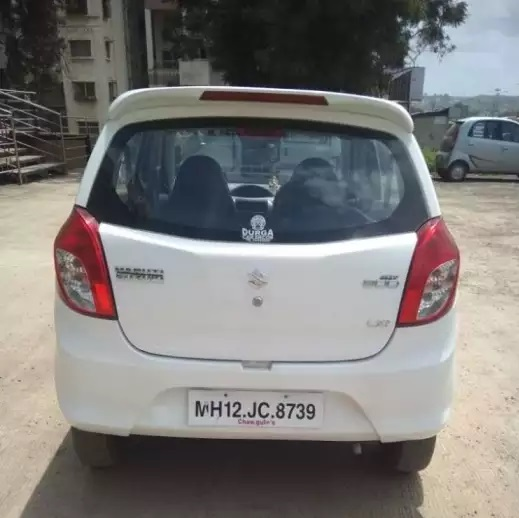licenseplate: (183, 386, 325, 429)
